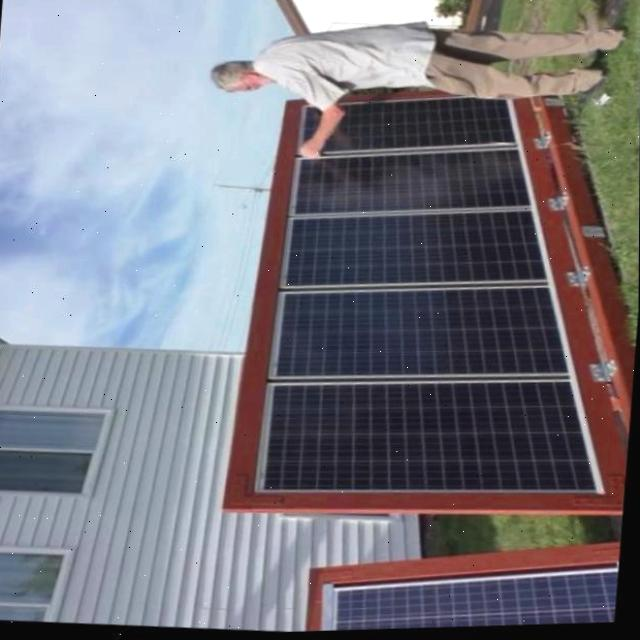Normal Solar Panel: (255, 82, 629, 516), (321, 550, 619, 634)
